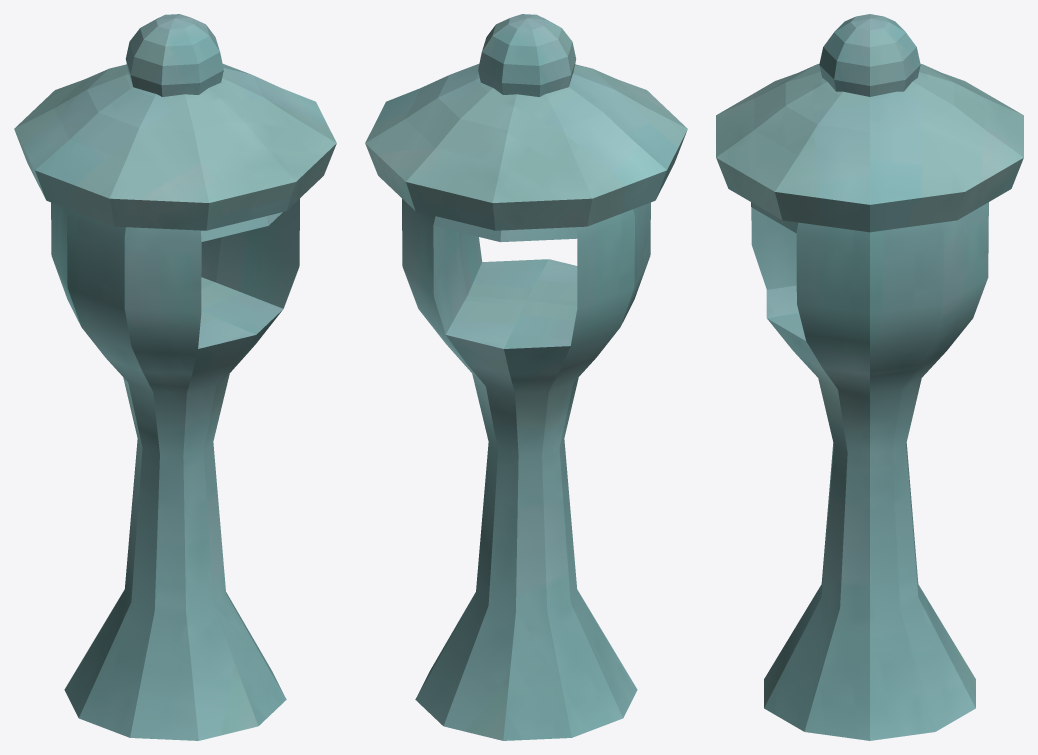
Rendered from SM_StoneLantern_05.fbx.
The picture shows the model from 3 angles, left to right: view 1: azimuth 30°, elevation 25°; view 2: azimuth 150°, elevation 25°; view 3: azimuth 270°, elevation 25°; orthographic projection.
Visible parts, largest first — view 1: SM_StoneLantern_05; view 2: SM_StoneLantern_05; view 3: SM_StoneLantern_05.
Boxes of the visible parts, x1,y1,x2,y2 form: SM_StoneLantern_05: (14,14,336,740); SM_StoneLantern_05: (365,14,687,740); SM_StoneLantern_05: (716,14,1023,740).
Size of the model in its own units: 64.93 by 149 by 61.75.
